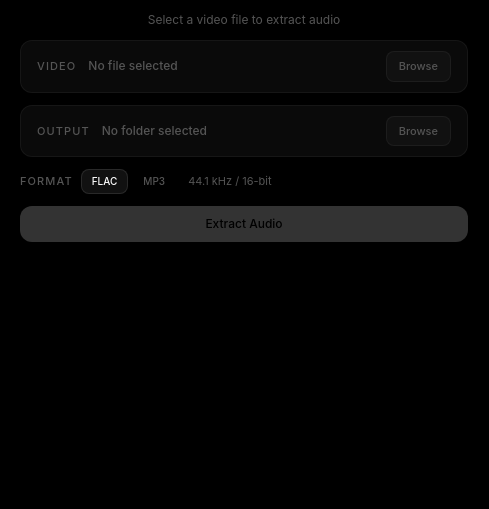
Test case: VideoExtractor › shows error for invalid chapter timestamps
Expected: the text "No file selected" is shown, [88,58,178,73]
Click the text "No file selected" at [244, 66], box [20,40,468,92]
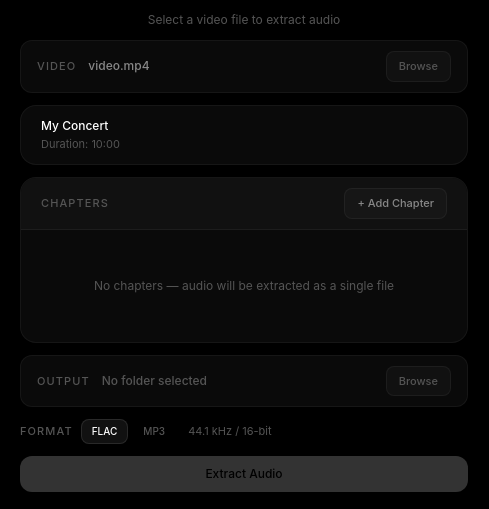
Now the button "+ Add Chapter" is shown
Click the button "+ Add Chapter" at [396, 203], box [344,188,447,218]
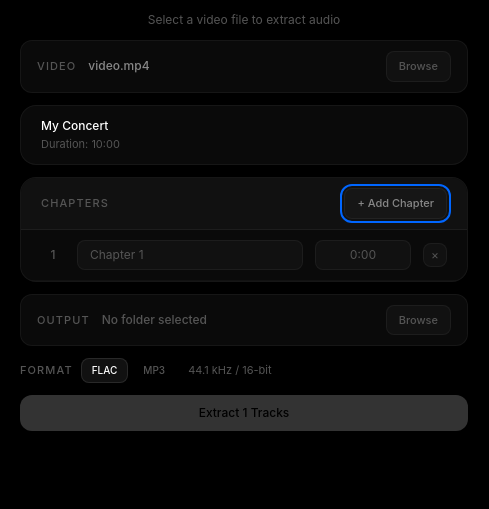
Type "99:99" into the field with placeholder "0:00" at [363, 254], box [315,240,411,270]
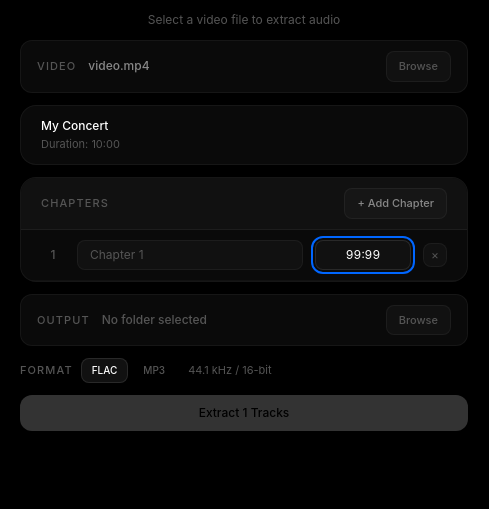
Click the button "Browse" at [418, 320], box [386,304,451,335]
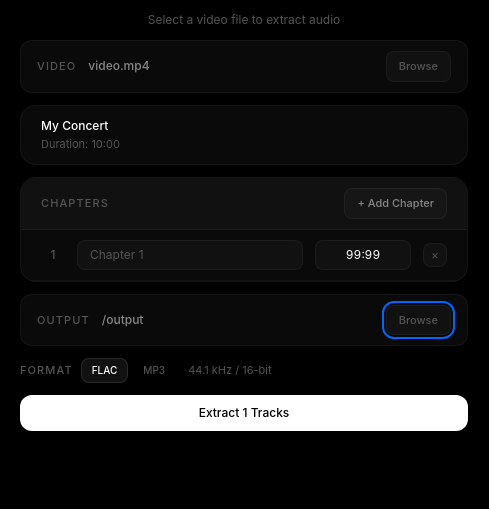
Now the button "Extract 1 Tracks" is shown
Click the button "Extract 1 Tracks" at [244, 413], box [20,395,468,431]
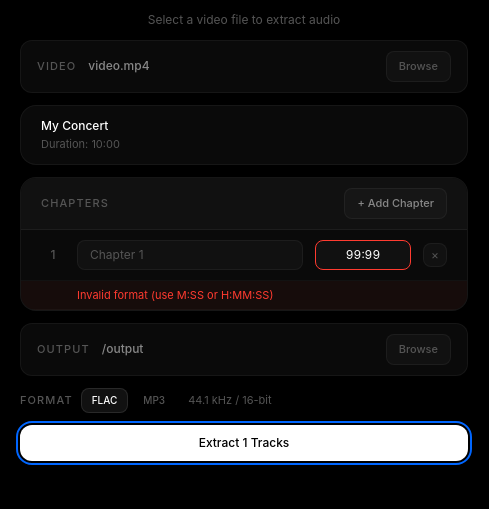
Now the text "Invalid format (use M:SS or H:MM:SS)" is shown, box [21,280,467,310]
